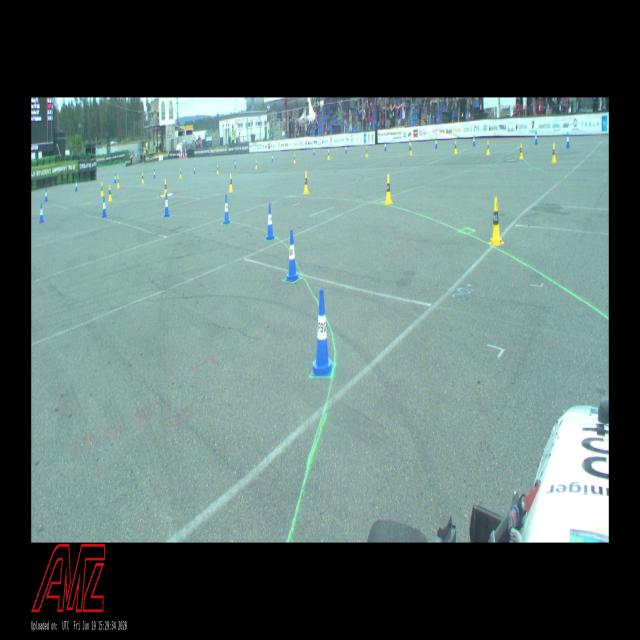blue_cone: (311, 289, 334, 376), (285, 230, 300, 282), (266, 203, 274, 240), (223, 195, 230, 224), (164, 193, 170, 217), (102, 197, 107, 218), (39, 204, 44, 223), (566, 133, 570, 147), (534, 131, 538, 144), (44, 189, 48, 201), (75, 180, 78, 192), (153, 169, 156, 179), (435, 138, 438, 148), (473, 135, 475, 146), (384, 141, 386, 151), (345, 144, 347, 153), (234, 159, 236, 168), (114, 174, 116, 183), (272, 154, 274, 162), (313, 148, 315, 155), (409, 139, 410, 150), (194, 165, 195, 173)
yellow_cone: (489, 197, 504, 245), (384, 174, 394, 204), (302, 171, 310, 194), (551, 143, 557, 162), (228, 173, 234, 192), (108, 185, 113, 201), (519, 143, 524, 159), (486, 141, 490, 155), (100, 182, 104, 196), (454, 140, 458, 154), (164, 180, 167, 196), (117, 175, 120, 188), (216, 164, 219, 175), (255, 159, 258, 169), (179, 168, 182, 178), (410, 143, 412, 155), (142, 172, 144, 183), (366, 147, 368, 157), (328, 150, 330, 159), (294, 154, 296, 163)
